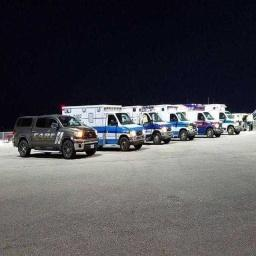ambulance: (62, 104, 144, 150), (122, 105, 172, 143), (175, 104, 222, 137), (154, 104, 196, 140), (204, 104, 241, 134)
